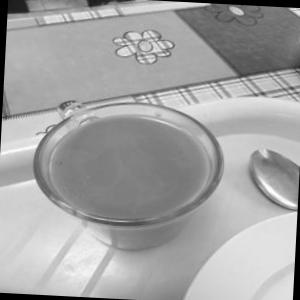coffee: (21, 86, 227, 255)
